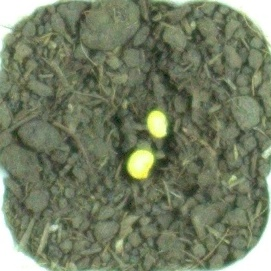chilli seed: (125, 147, 157, 182), (143, 108, 171, 140)
